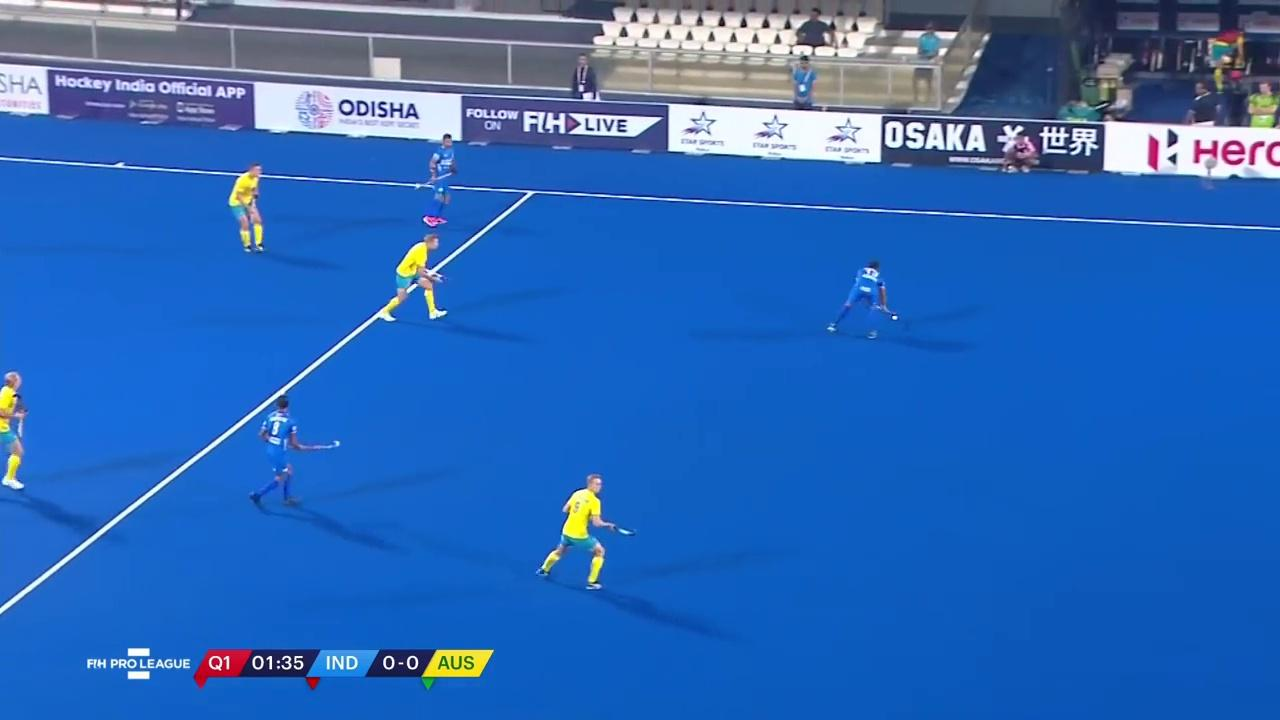ball: (889, 314, 899, 321)
